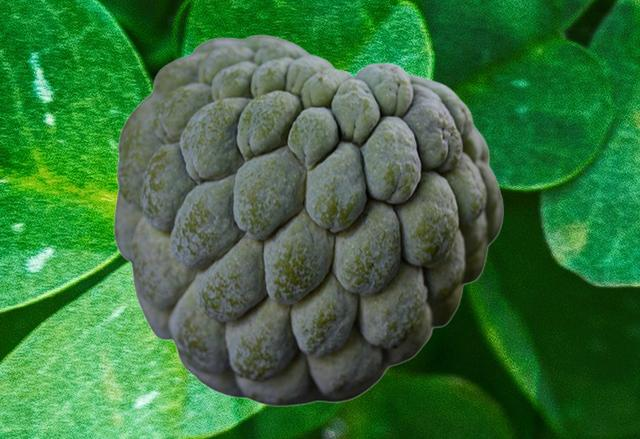atis: (113, 34, 502, 405)
